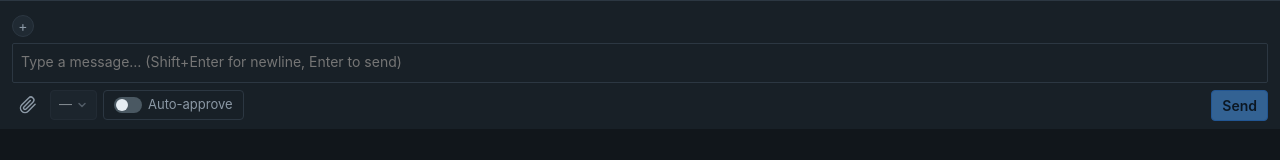
<Composer> › adds a new quick phrase via the + button and persists it
The image size is (1280, 160).
Click the button named "Add quick phrase" at x=23, y=26, box x1=12 y1=15 x2=34 y2=37
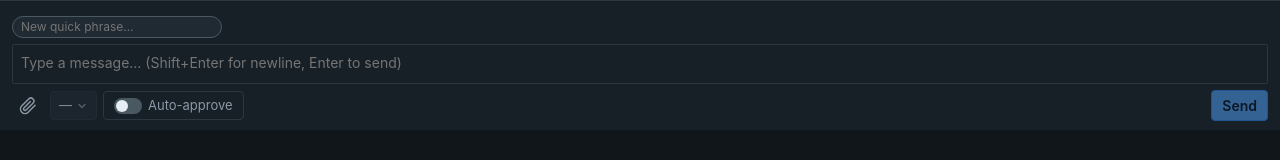
Type "new phrase" into the field with placeholder "New quick phrase…" at x=117, y=26, box x1=12 y1=16 x2=222 y2=38
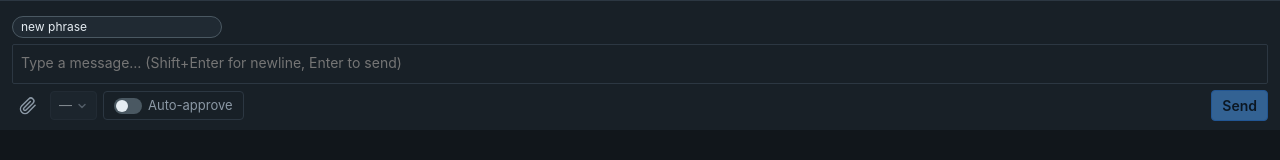
Press Enter in the field with placeholder "New quick phrase…", box x1=12 y1=16 x2=222 y2=38
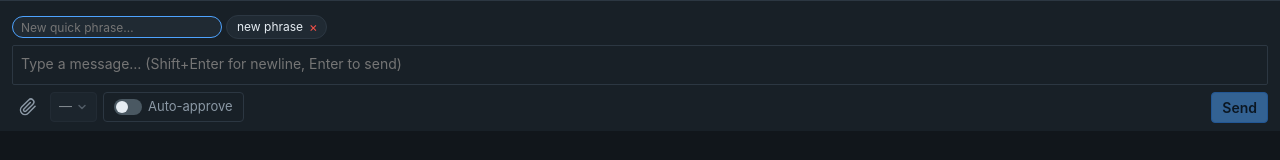
Result: the button "new phrase" is shown at x1=237 y1=18 x2=303 y2=36
